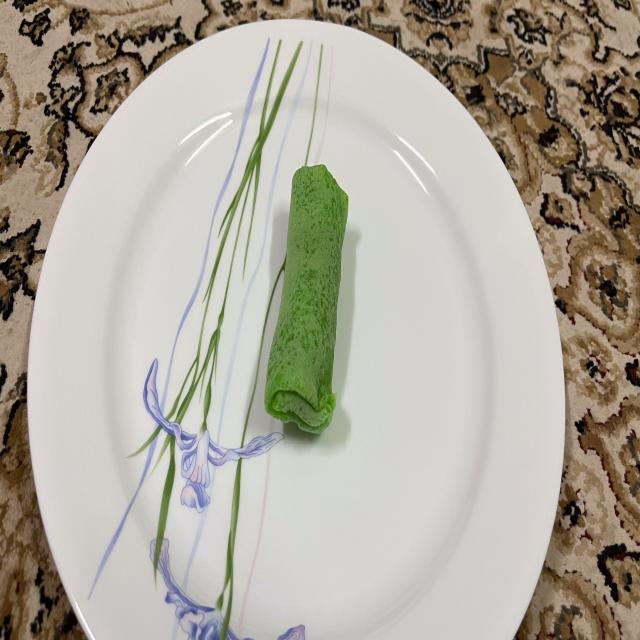Kuih-Ketayap: (265, 164, 349, 433)
